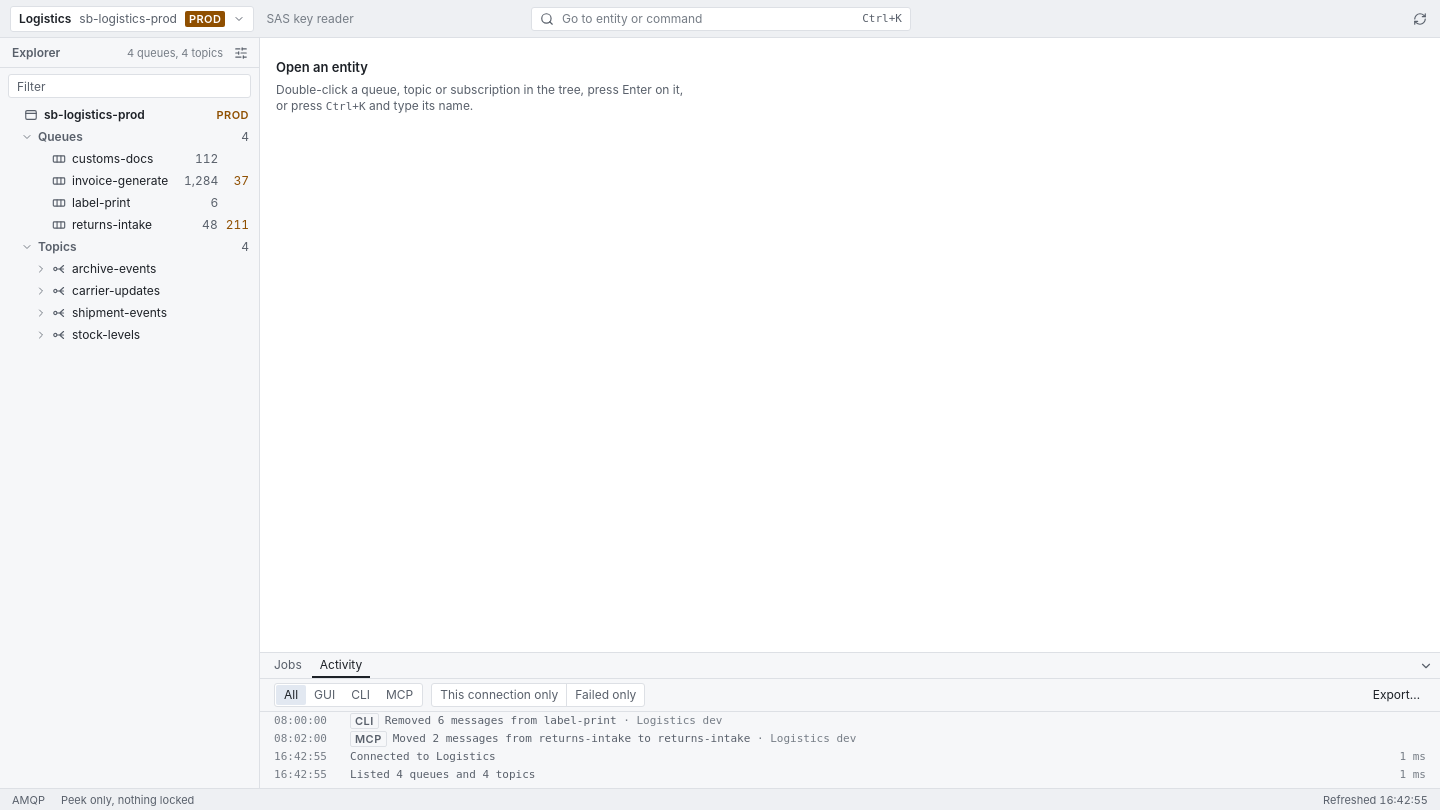
Test: NamespaceTree › loads subscriptions when a topic expands
The image size is (1440, 810).
Click the list item "shipment-events". click: (101, 312)
box: [35,305,167,320]
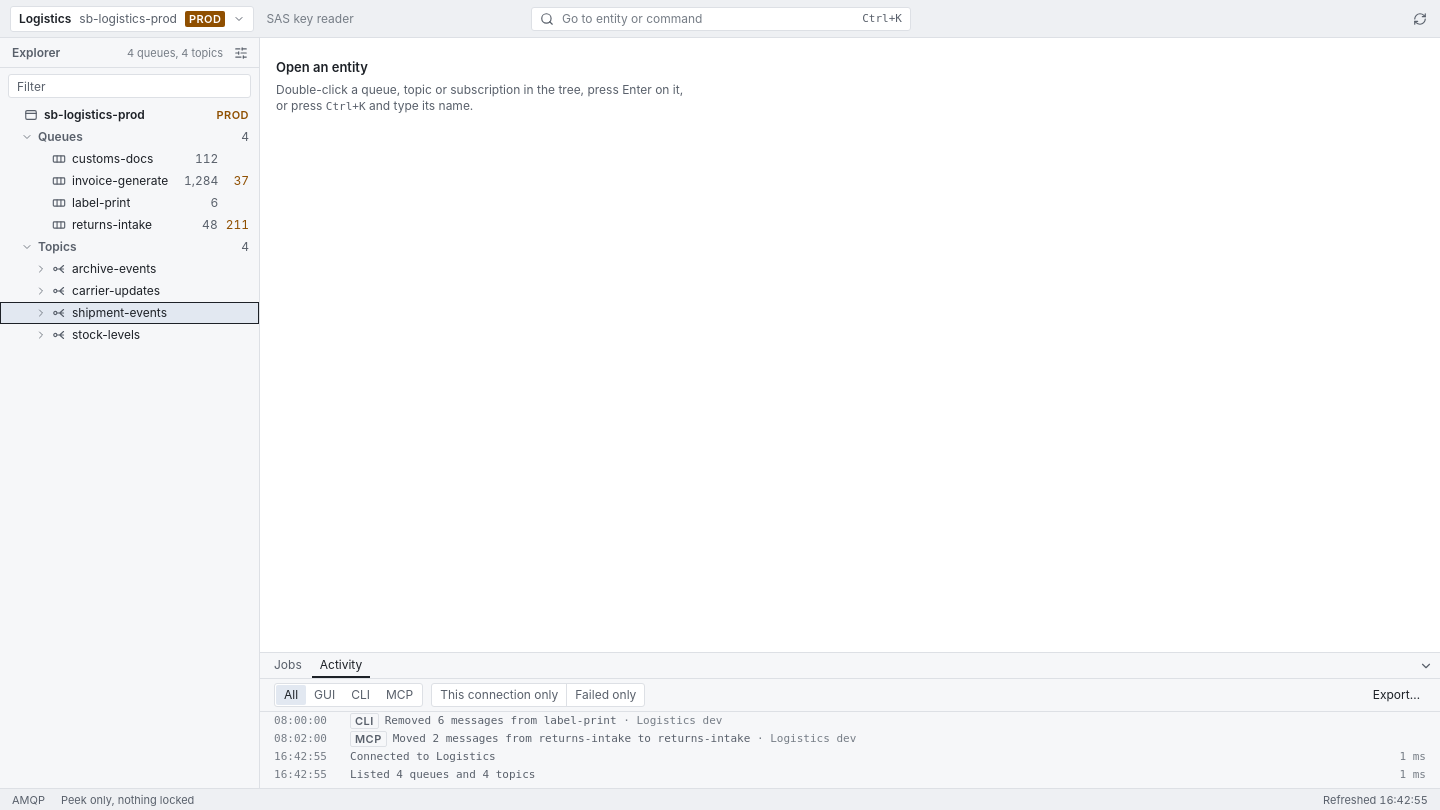
Press Arrowright
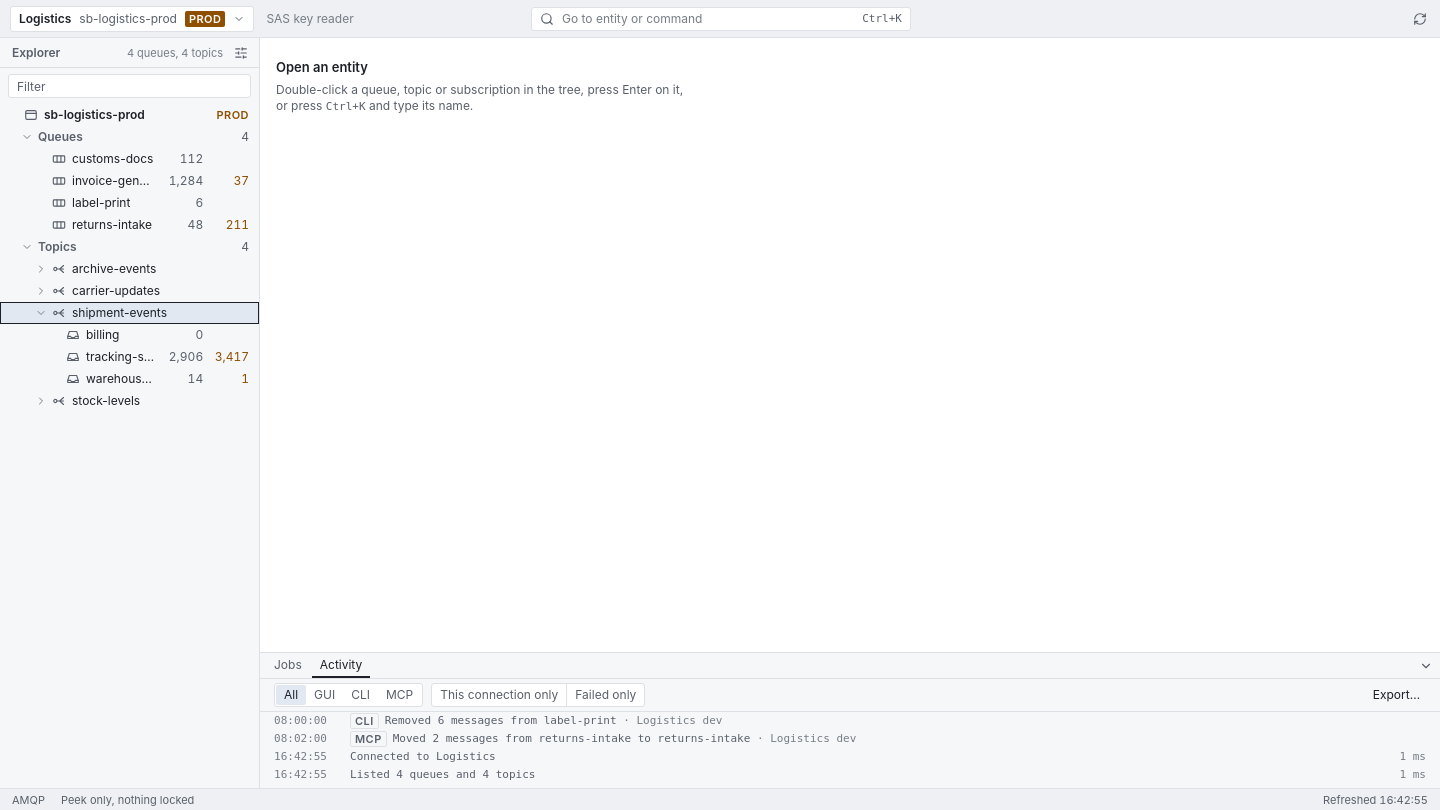
Expected: the list item "tracking-sync 2,906 3,417" is shown, [66,349,249,364]
